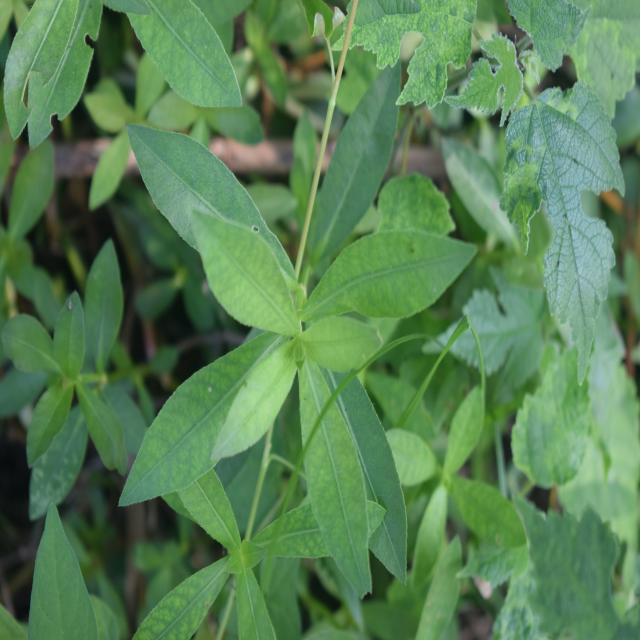Alligatorweed: (137, 118, 424, 582)
